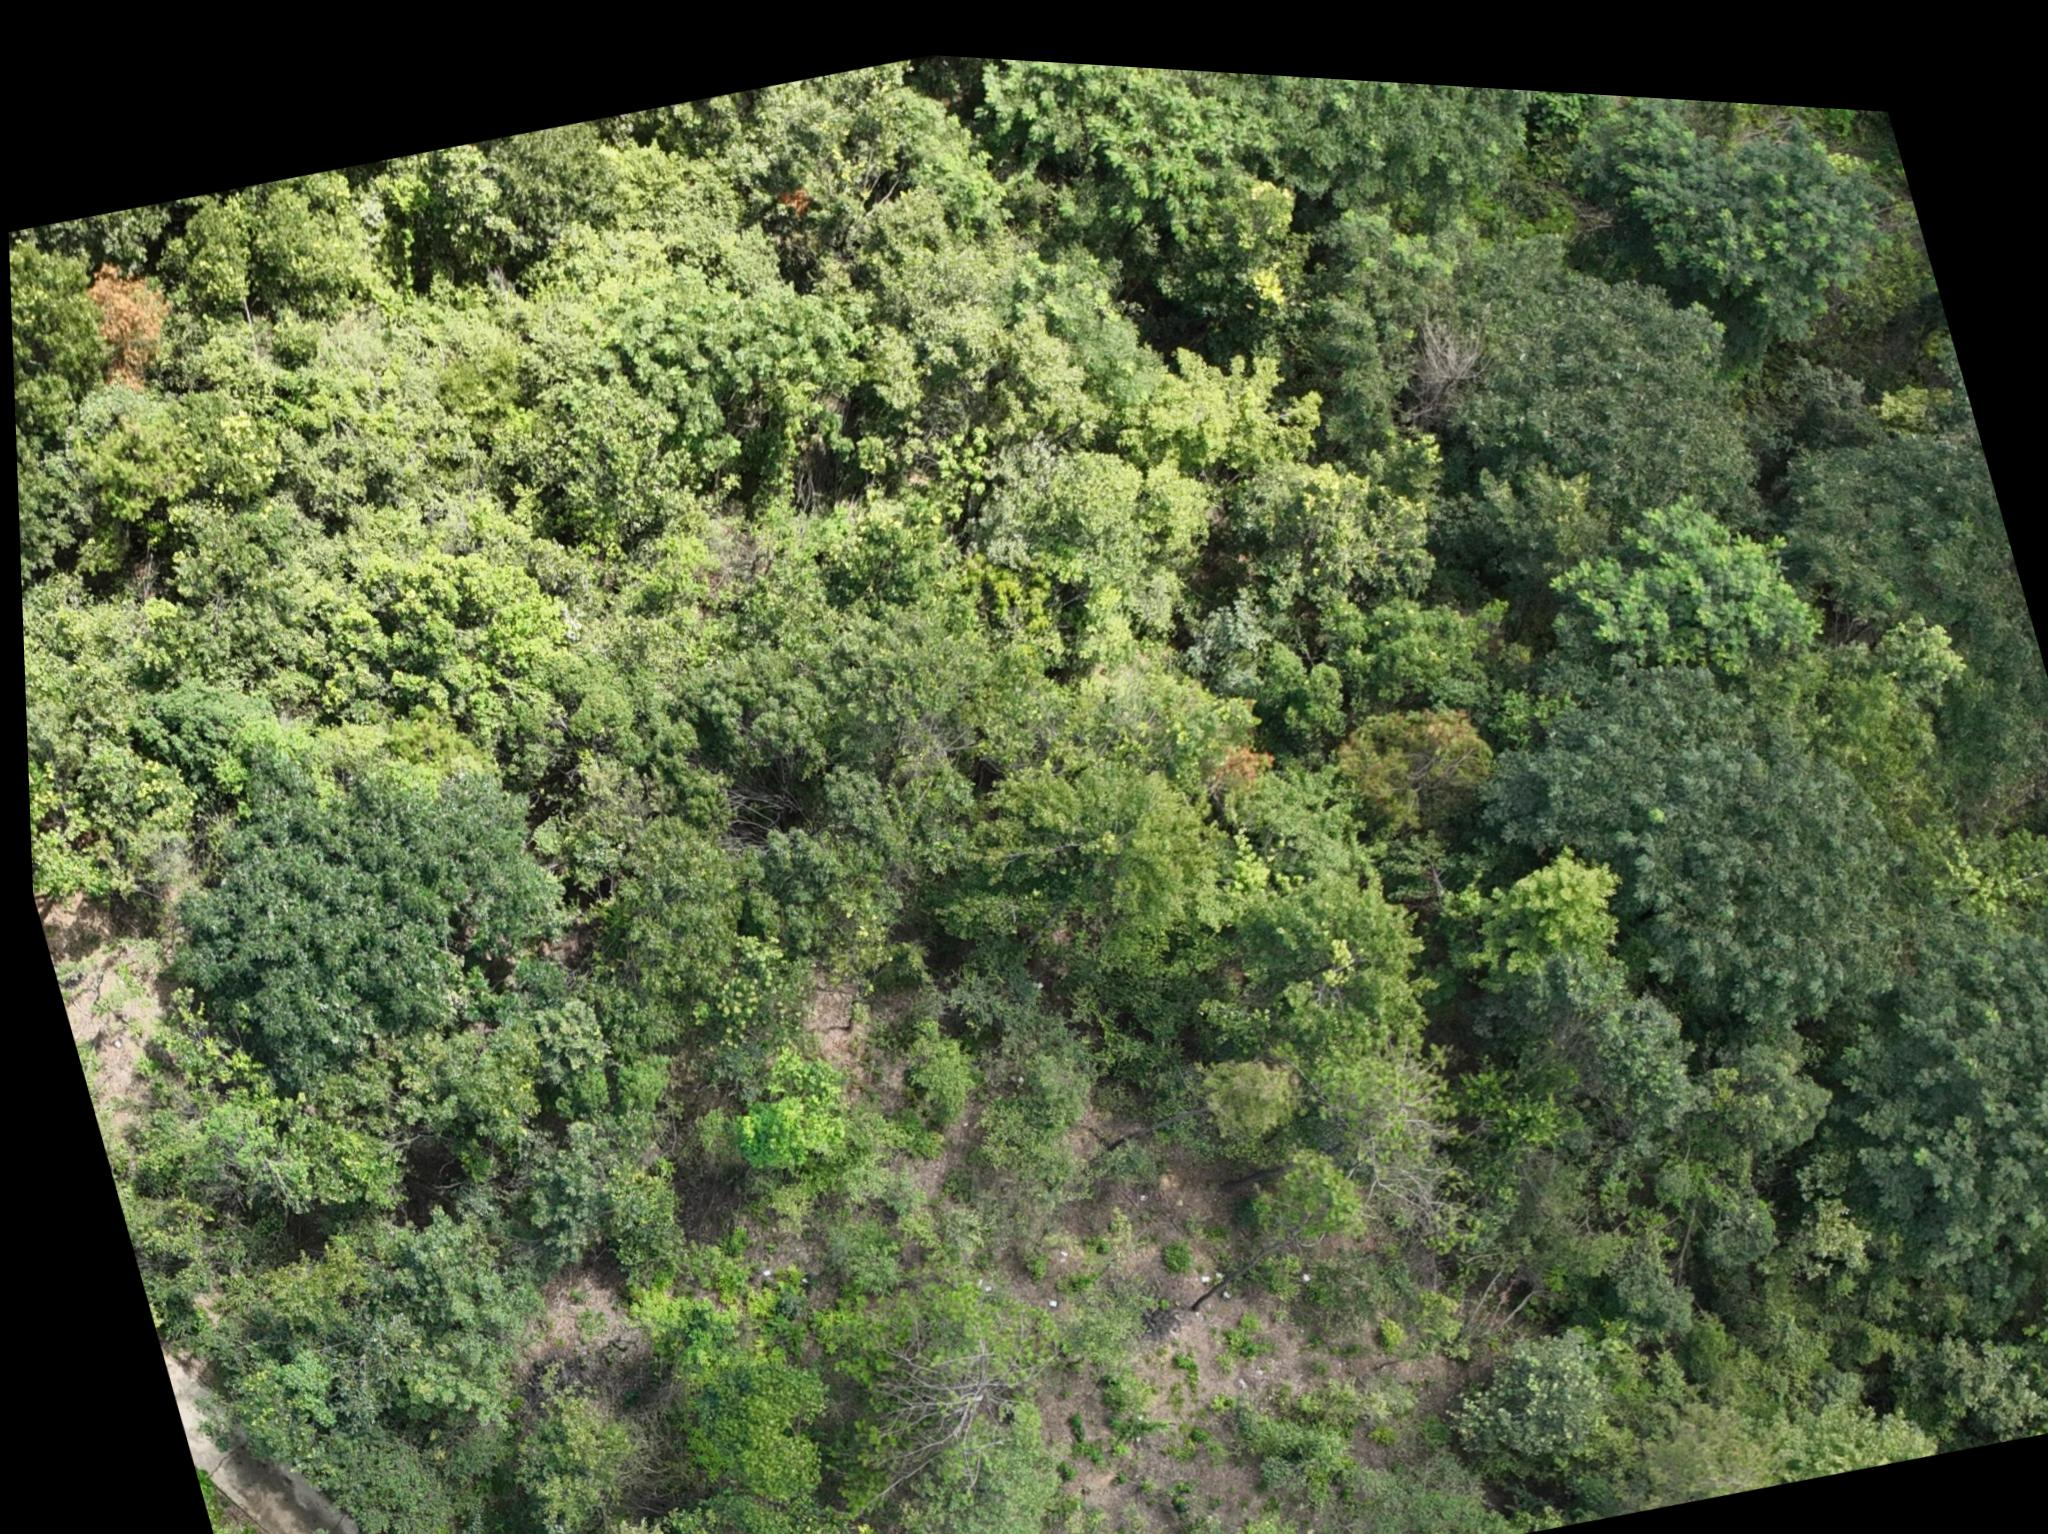heavy: (77, 247, 185, 390)
light: (1316, 669, 1499, 820)
